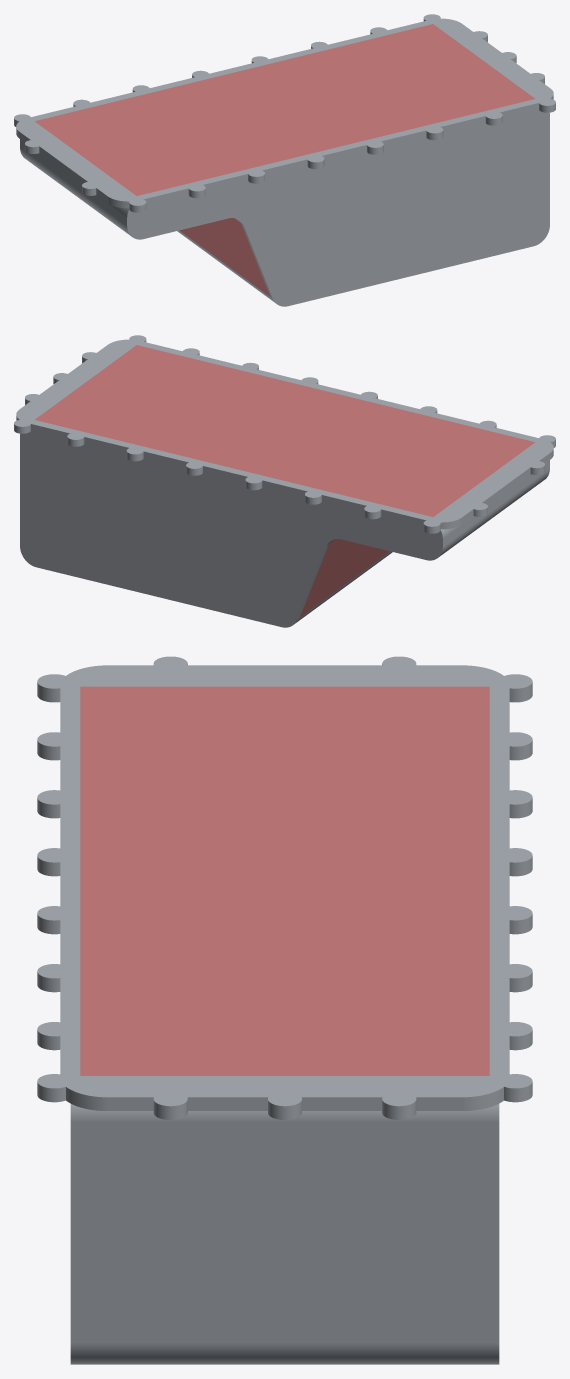
Rendered from step_04.glb.
The picture shows the model from 3 angles, top to bottom: view 1: azimuth 30°, elevation 25°; view 2: azimuth 150°, elevation 25°; view 3: azimuth 270°, elevation 25°; orthographic projection. The views are drawn at different scales.
Visible parts, largest first — view 1: part__oil pan, removed__oil pan; view 2: part__oil pan, removed__oil pan; view 3: part__oil pan, removed__oil pan.
Part boxes in pixels (x1,y1,x2,y2): part__oil pan: [14, 14, 555, 306]; removed__oil pan: [35, 24, 534, 296]; part__oil pan: [14, 335, 555, 627]; removed__oil pan: [35, 345, 534, 617]; part__oil pan: [37, 656, 532, 1364]; removed__oil pan: [80, 686, 489, 1075].
Bounding box in the file's own units: 559 × 168 × 260.
